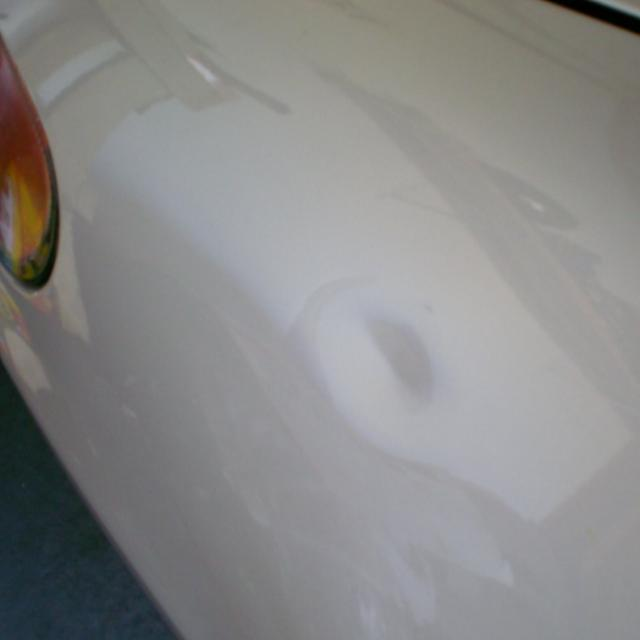dents: (340, 284, 450, 434)
